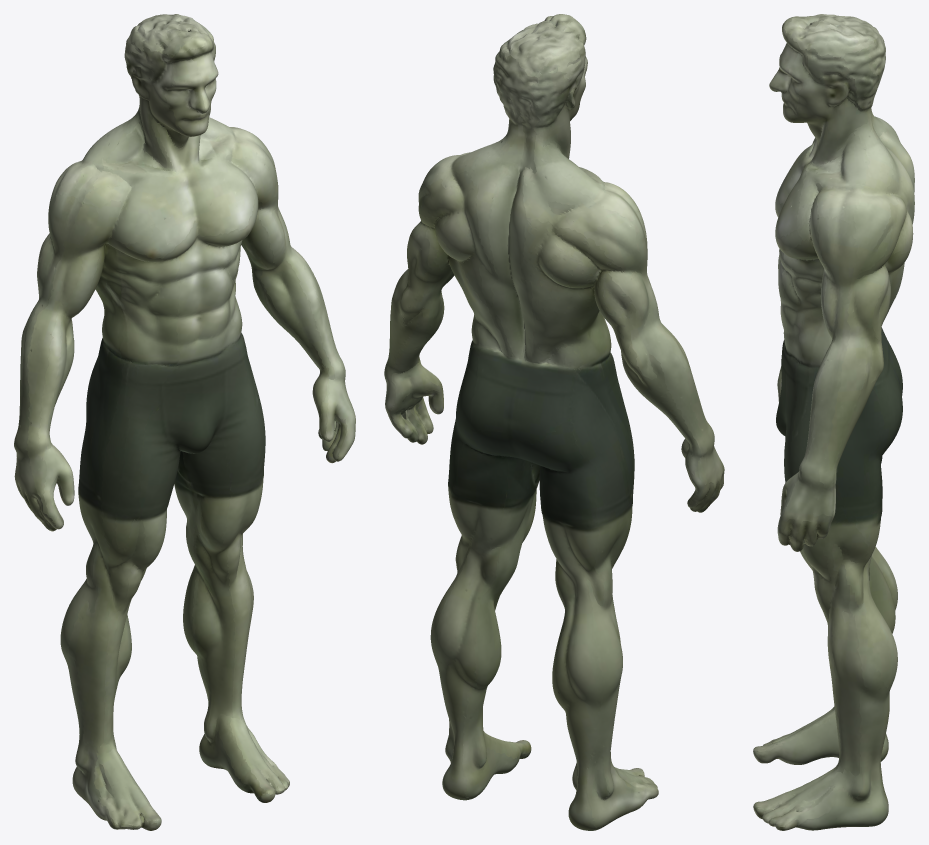
Rendered from adult-male-v3.glb.
3 views of the same model, side by side, from view 1: azimuth 30°, elevation 25°; view 2: azimuth 150°, elevation 25°; view 3: azimuth 270°, elevation 25° (orthographic).
Visible parts, largest first — view 1: TeachingBody; view 2: TeachingBody; view 3: TeachingBody.
Boxes of the visible parts, left/top/right/bottom form: TeachingBody: left=14, top=14, right=355, bottom=830; TeachingBody: left=384, top=14, right=724, bottom=830; TeachingBody: left=753, top=14, right=914, bottom=830.
Bounding box in the file's own units: 0.7829 × 1.78 × 0.3375.
Materials: 1 (1 with a texture image).
